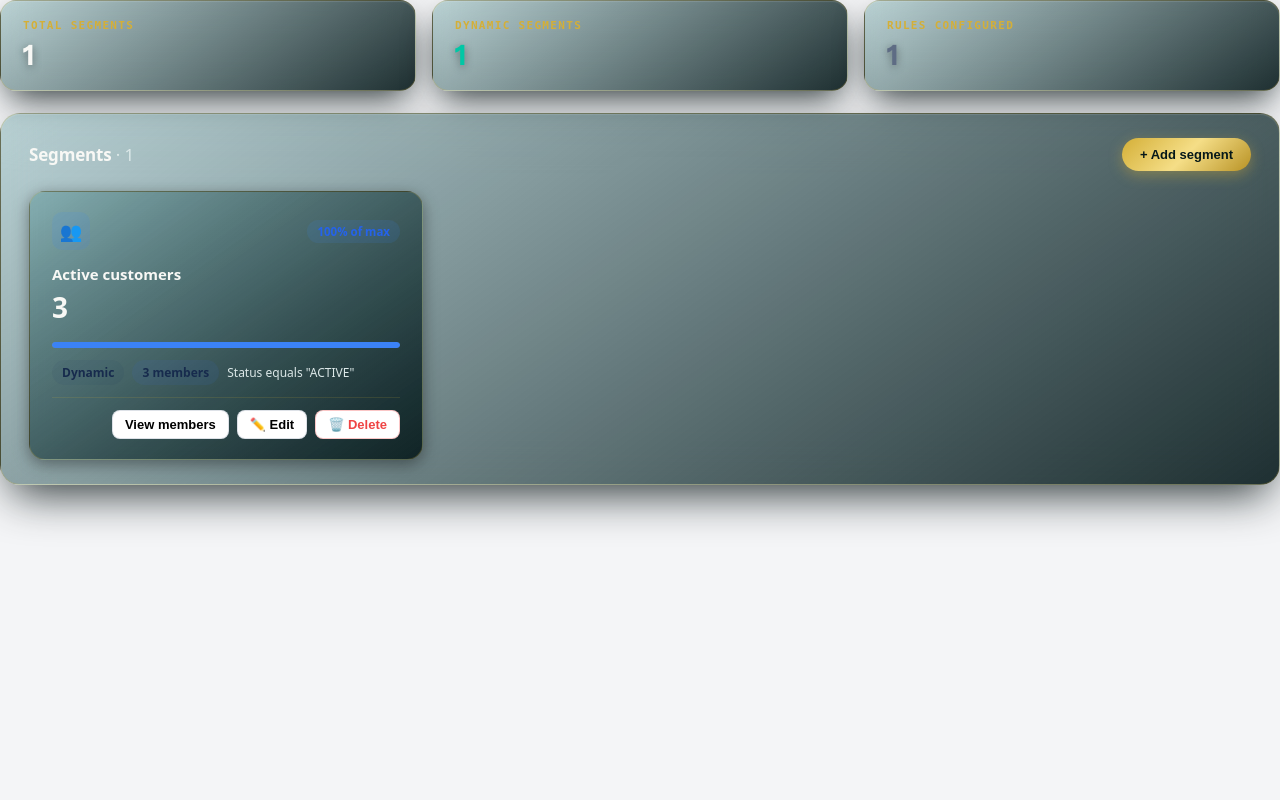
Test case: SegmentsPage › edits a segment name and rules via the edit modal
The width and height of the screenshot is (1280, 800).
Expected: the heading "Active customers" is shown, 52,264 -> 181,284
Click the button "✏️ Edit" at (272, 424), box 237,410 -> 307,439
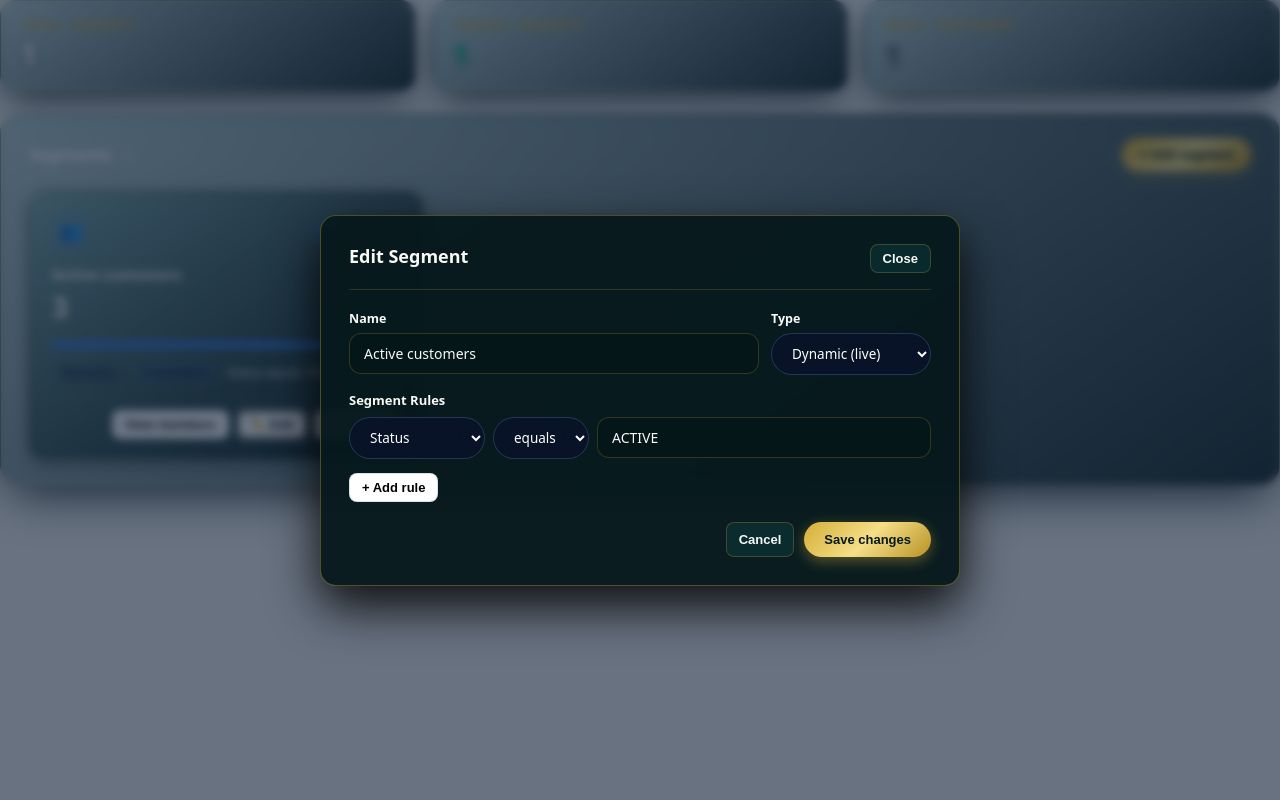
Result: the heading "Edit Segment" is shown at 349,244 -> 468,268
Replace the text in the field labelled "Name" with "Renamed segment" at (554, 353), box 349,332 -> 759,374
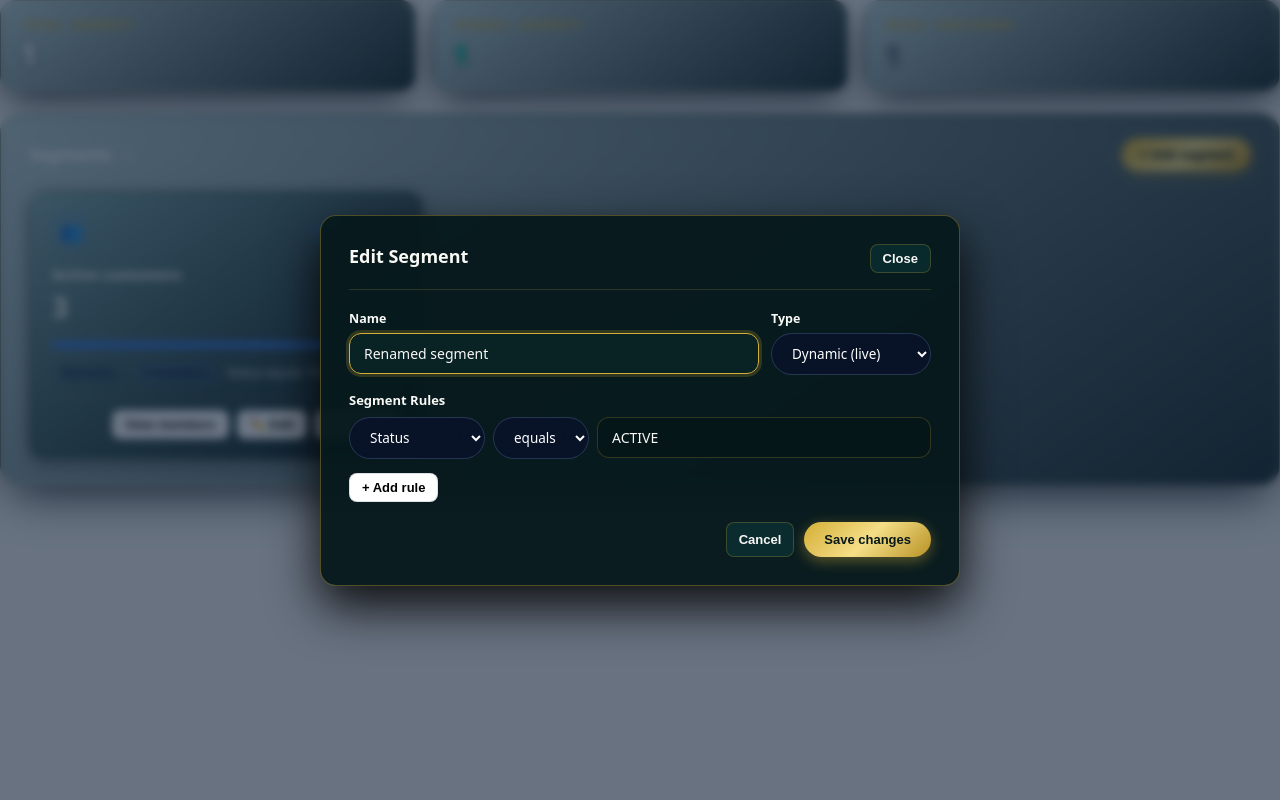
Click the button "Save changes" at (868, 539), box 804,522 -> 931,556
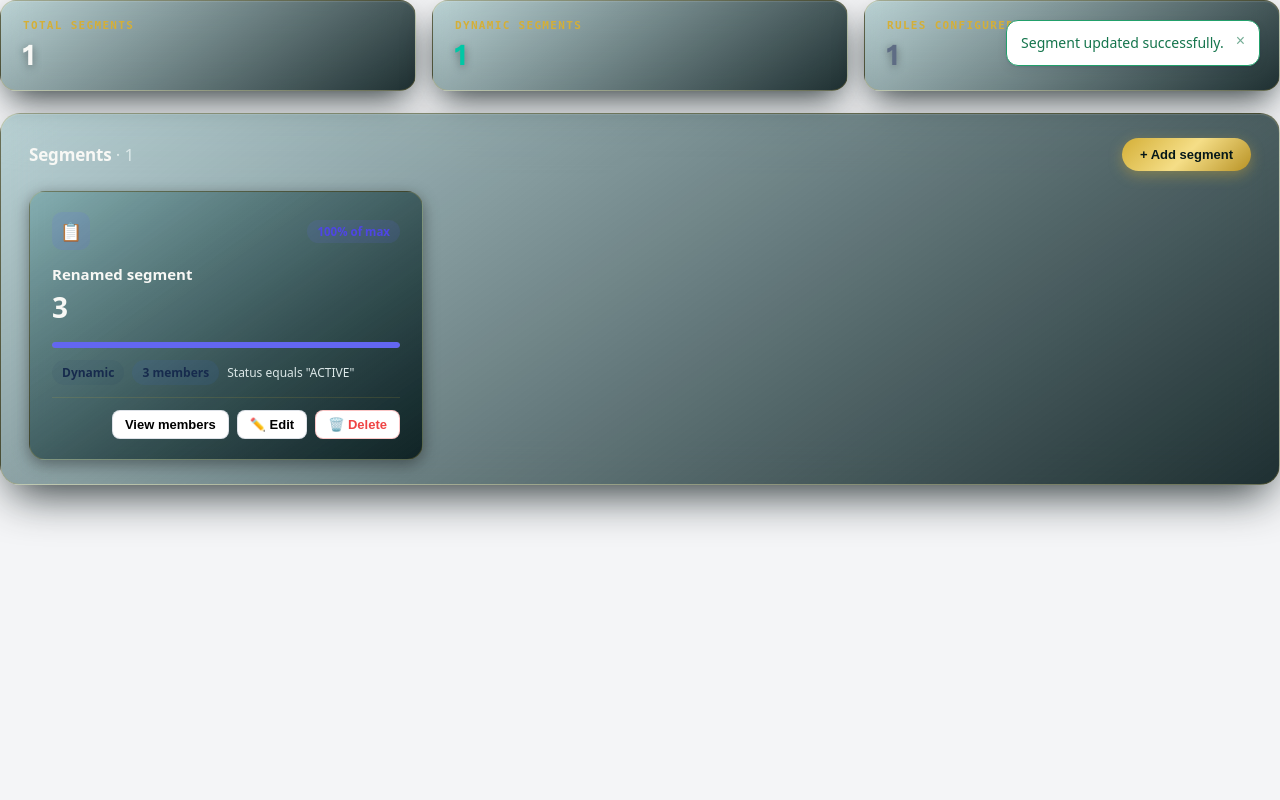
Result: the heading "Renamed segment" is shown at 52,264 -> 192,284
